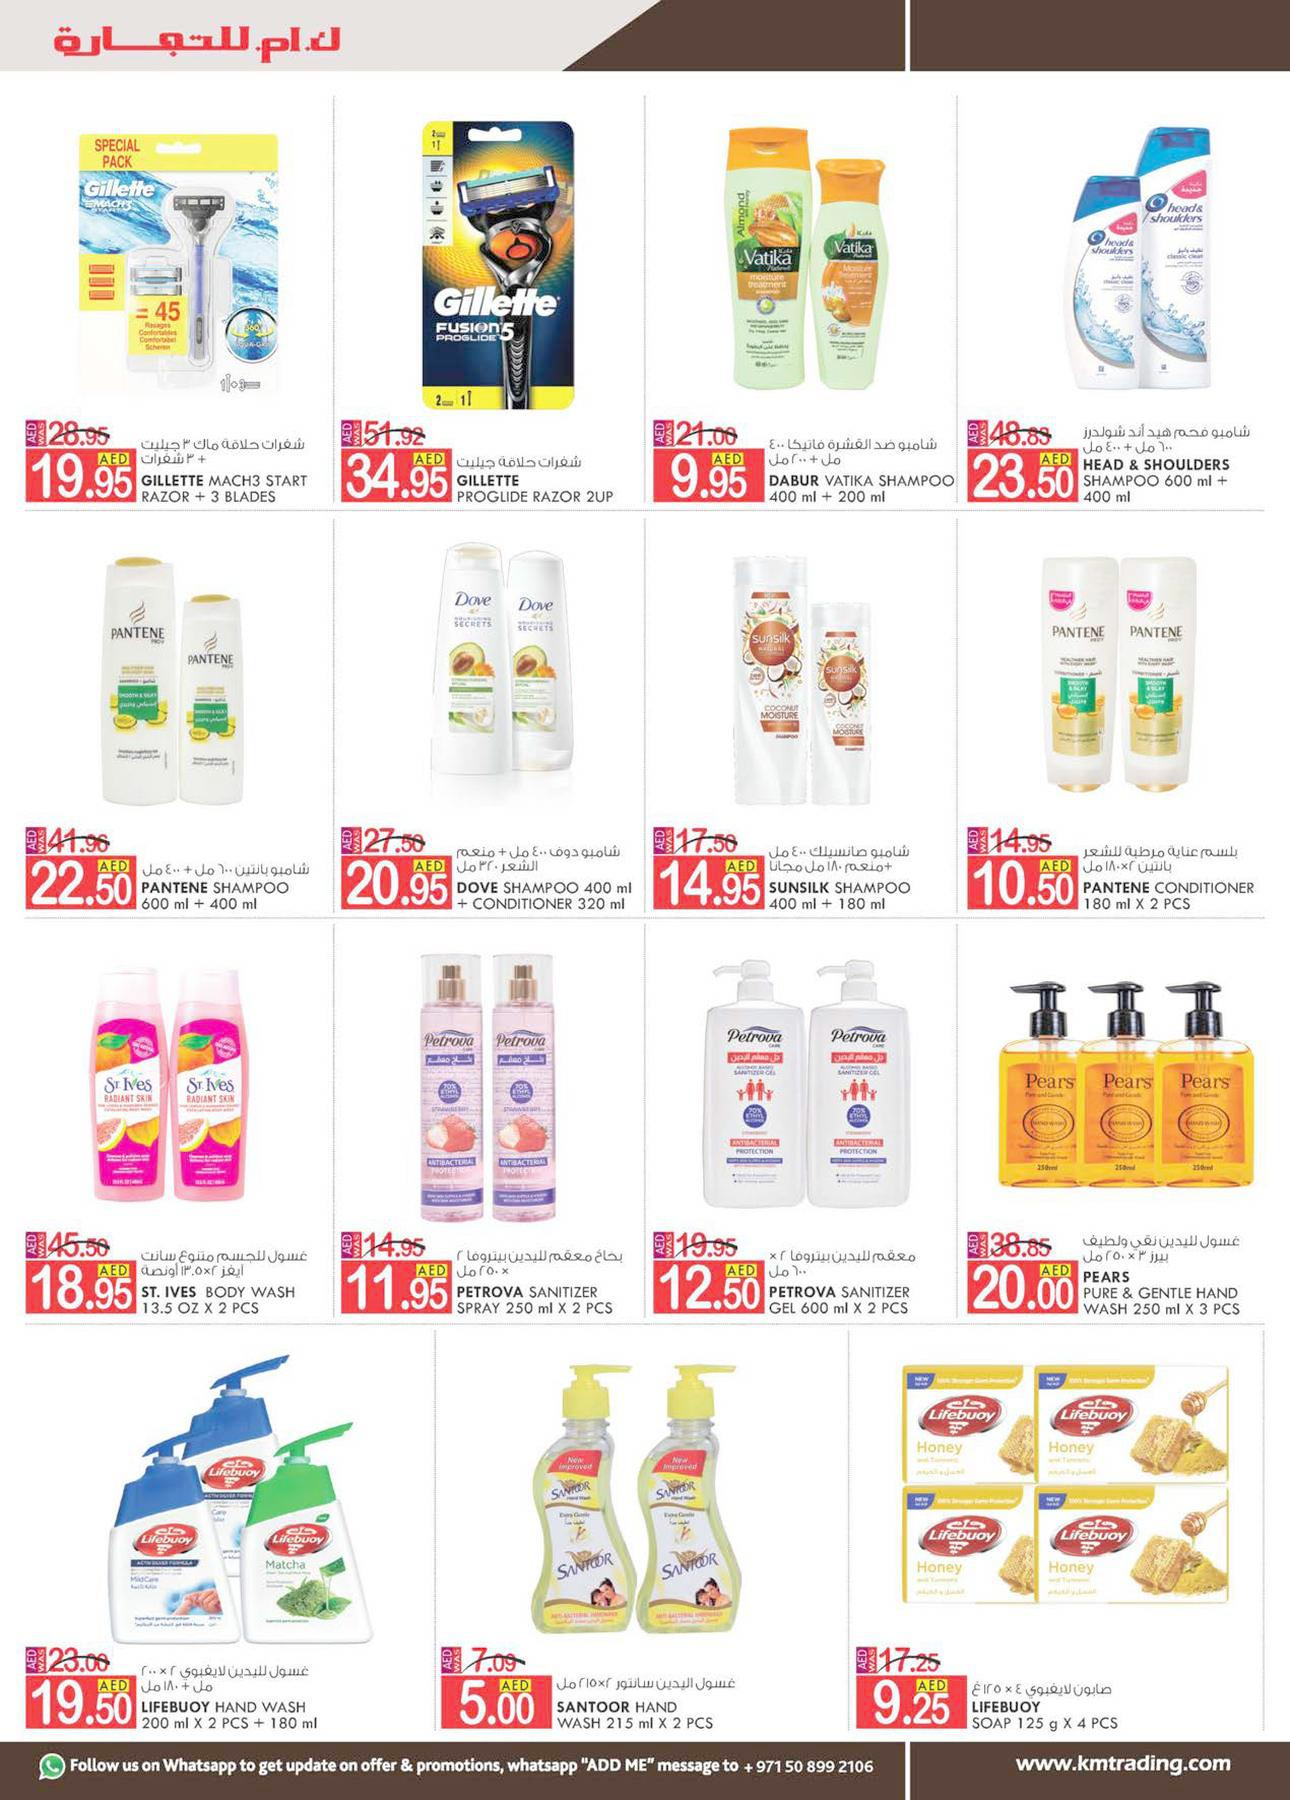text: (137, 1652, 329, 1739), (1081, 1224, 1251, 1321), (1081, 414, 1258, 507), (457, 834, 645, 917), (766, 428, 956, 509), (1081, 833, 1261, 918), (138, 426, 316, 511), (137, 1240, 317, 1320), (452, 433, 639, 508), (135, 847, 325, 920), (765, 834, 927, 917), (457, 1243, 631, 1319), (556, 1669, 744, 1739), (766, 1238, 928, 1319), (967, 1677, 1129, 1734)
